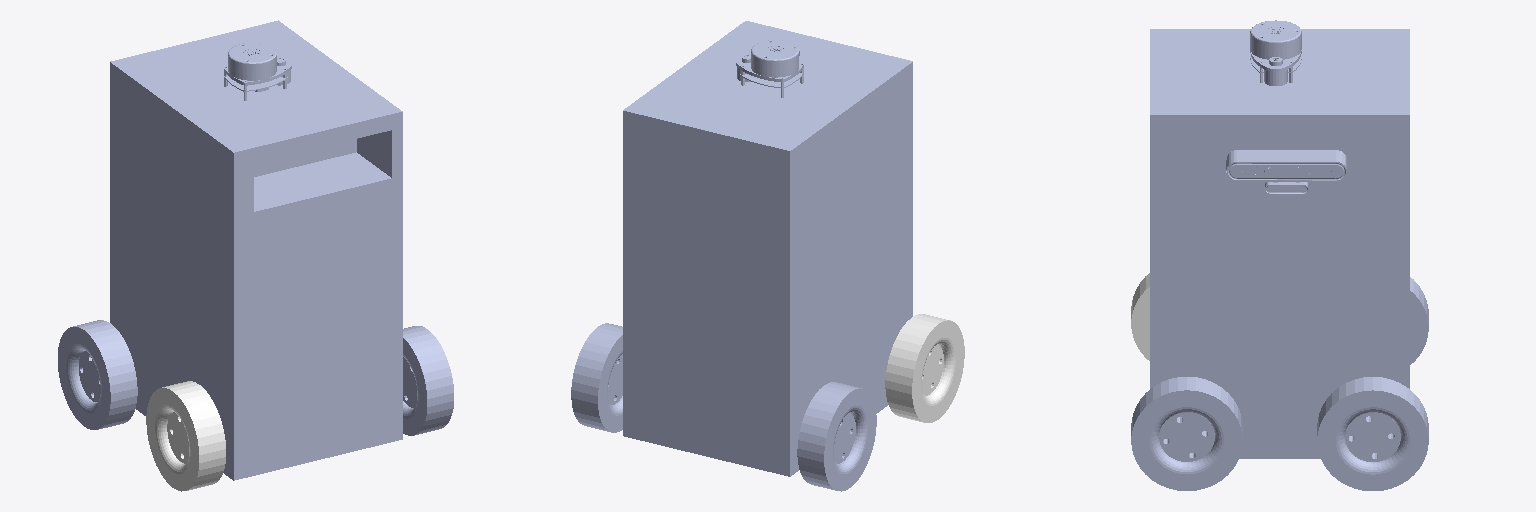
robot.urdf — my_urdf:
<?xml version="1.0" encoding="utf-8"?>
<!-- This URDF was automatically created by SolidWorks to URDF Exporter! Originally created by Stephen Brawner (brawner@gmail.com) 
     Commit Version: 1.6.0-4-g7f85cfe  Build Version: 1.6.7995.38578
     For more information, please see http://wiki.ros.org/sw_urdf_exporter -->
<robot
  name="my_urdf">
  <!-- Dummy link added to fix KDL inertia warning -->
  <link name="dummy_root">
    <inertial>
      <origin xyz="-0.000309087484210829 -0.231774623204699 0.00490440684986201" rpy="0 0 0" />
      <mass value="45.829187990473" />
      <inertia
        ixx="1.3247027895633"
        ixy="-0.00259104265884517"
        ixz="-0.00186845178508046"
        iyy="0.773725974976496"
        iyz="0.0411131993367175"
        izz="1.15594469557223" />
    </inertial>
  </link>

  <joint name="dummy_to_base" type="fixed">
    <parent link="dummy_root" />
    <child link="base_footprint" />
    <origin xyz="0 0 0" rpy="0 0 0" />
  </joint>
  <link
    name="base_footprint">
    <inertial>
      <origin
        xyz="-0.000309087484210829 -0.231774623204699 0.00490440684986201"
        rpy="0 0 0" />
      <mass
        value="45.829187990473" />
      <inertia
        ixx="1.3247027895633"
        ixy="-0.00259104265884517"
        ixz="-0.00186845178508046"
        iyy="0.773725974976496"
        iyz="0.0411131993367175"
        izz="1.15594469557223" />
    </inertial>
    <visual>
      <origin
        xyz="0 0 0"
        rpy="-1.57 0 0" />
      <geometry>
        <mesh
          filename="package://my_urdf/meshes/base_footprint.STL" />
      </geometry>
      <material
        name="">
        <color
          rgba="0.792156862745098 0.819607843137255 0.933333333333333 1" />
      </material>
    </visual>
    <collision>
      <origin
        xyz="0 0 0"
        rpy="-1.57 0 0" />
      <geometry>
        <mesh
          filename="package://my_urdf/meshes/base_footprint.STL" />
      </geometry>
    </collision>
  </link>
  <link
    name="front_right_link">
    <inertial>
      <origin
        xyz="-0.000233568800549525 0.00388215224949372 0.219535415875818"
        rpy="0 0 0" />
      <mass
        value="48.9383586991974" />
      <inertia
        ixx="1.56913843574981"
        ixy="-0.00154016843274957"
        ixz="0.00211023847469076"
        iyy="1.44343461593917"
        iyz="-0.0373053138883436"
        izz="0.925134371309634" />
    </inertial>
    <visual>
      <origin
        xyz="0 0 0"
        rpy="1.57 0 0" />
      <geometry>
        <mesh
          filename="package://my_urdf/meshes/back_right_link.STL" />
      </geometry>
      <material
        name="">
        <color
          rgba="1 1 1 1" />
      </material>
    </visual>
    <collision>
      <origin
        xyz="0 0 0"
        rpy="0 0 0" />
      <geometry>
        <mesh
          filename="package://my_urdf/meshes/back_right_link.STL" />
      </geometry>
    </collision>
  </link>
  <joint
    name="front_right_joint"
    type="revolute">
    <origin
      xyz="0 0 0"
      rpy="1.5707963267949 0 0" />
    <parent
      link="base_footprint" />
    <child
      link="front_right_link" />
    <axis
      xyz="-1 0 0" />
    <limit
      lower="0"
      upper="0"
      effort="0"
      velocity="0" />
  </joint>
  <link
    name="back_right_link">
    <inertial>
      <origin
        xyz="-0.188595 0.127041605346971 -0.0204638010416092"
        rpy="0 0 0" />
      <mass
        value="0.672106314046843" />
      <inertia
        ixx="0.0022358710882711"
        ixy="1.18669985448161E-20"
        ixz="4.77668952557858E-22"
        iyy="0.00121366878208572"
        iyz="1.72224751499544E-07"
        izz="0.0012137080517682" />
    </inertial>
    <visual>
      <origin
        xyz="0 0.035 0"
        rpy="-1.57 0 0" />
      <geometry>
        <mesh
          filename="package://my_urdf/meshes/back_right_link.STL" />
      </geometry>
      <material
        name="">
        <color
          rgba="0.792156862745098 0.819607843137255 0.933333333333333 1" />
      </material>
    </visual>
    <collision>
      <origin
        xyz="0 0 0"
        rpy="0 0 0" />
      <geometry>
        <mesh
          filename="package://my_urdf/meshes/back_right_link.STL" />
      </geometry>
    </collision>
  </link>
  <joint
    name="back_right_joint"
    type="revolute">
    <origin
      xyz="0 0 0"
      rpy="1.5707963267949 0 0" />
    <parent
      link="base_footprint" />
    <child
      link="back_right_link" />
    <axis
      xyz="1 0 0" />
    <limit
      lower="0"
      upper="0"
      effort="0"
      velocity="0" />
  </joint>
  <link
    name="back_left_link">
    <inertial>
      <origin
        xyz="0.188595 0.126968611638409 -0.0203013899175233"
        rpy="0 0 0" />
      <mass
        value="0.672106314046843" />
      <inertia
        ixx="0.0022358710882711"
        ixy="-1.47749794835115E-20"
        ixz="-5.08498084480825E-21"
        iyy="0.001213728039212"
        iyz="-1.68751197173603E-07"
        izz="0.00121364879464192" />
    </inertial>
    <visual>
      <origin
        xyz="0 0 0"
        rpy="1.57 0 0" />
      <geometry>
        <mesh
          filename="package://my_urdf/meshes/back_left_link.STL" />
      </geometry>
      <material
        name="">
        <color
          rgba="0.792156862745098 0.819607843137255 0.933333333333333 1" />
      </material>
    </visual>
    <collision>
      <origin
        xyz="0 0 0"
        rpy="0 0 0" />
      <geometry>
        <mesh
          filename="package://my_urdf/meshes/back_left_link.STL" />
      </geometry>
    </collision>
  </link>
  <joint
    name="back_left_joint"
    type="revolute">
    <origin
      xyz="0 0 0"
      rpy="1.5707963267949 0 0" />
    <parent
      link="base_footprint" />
    <child
      link="back_left_link" />
    <axis
      xyz="1 0 0" />
    <limit
      lower="0"
      upper="0"
      effort="0"
      velocity="0" />
  </joint>
  <link
    name="front_left_link">
    <inertial>
      <origin
        xyz="0.188595 -0.127032541922988 -0.0202995473440542"
        rpy="0 0 0" />
      <mass
        value="0.672106314046843" />
      <inertia
        ixx="0.0022358710882711"
        ixy="-7.01375136593397E-22"
        ixz="-1.64781567191005E-20"
        iyy="0.00121367321204965"
        iyz="-1.72672243645025E-07"
        izz="0.00121370362180427" />
    </inertial>
    <visual>
      <origin
        xyz="0 0 0"
        rpy="1.57 0 0" />
      <geometry>
        <mesh
          filename="package://my_urdf/meshes/front_left_link.STL" />
      </geometry>
      <material
        name="">
        <color
          rgba="0.792156862745098 0.819607843137255 0.933333333333333 1" />
      </material>
    </visual>
    <collision>
      <origin
        xyz="0 0 0"
        rpy="0 0 0" />
      <geometry>
        <mesh
          filename="package://my_urdf/meshes/front_left_link.STL" />
      </geometry>
    </collision>
  </link>
  <joint
    name="front_left_joint"
    type="revolute">
    <origin
      xyz="0 0 0"
      rpy="1.5707963267949 0 0" />
    <parent
      link="base_footprint" />
    <child
      link="front_left_link" />
    <axis
      xyz="1 0 0" />
    <limit
      lower="0"
      upper="0"
      effort="0"
      velocity="0" />
  </joint>
  <link
    name="lidar_link">
    <inertial>
      <origin
        xyz="0.00548449682867642 -0.00227401415844783 0.513423127732833"
        rpy="0 0 0" />
      <mass
        value="0.170611427740059" />
      <inertia
        ixx="0.000123166325080503"
        ixy="1.02818502430435E-07"
        ixz="3.96362803317277E-07"
        iyy="7.88356333895355E-05"
        iyz="2.02875674243666E-05"
        izz="0.00014078871798285" />
    </inertial>
    <visual>
      <origin
        xyz="0 0 0"
        rpy="0 0 -1.57" />
      <geometry>
        <mesh
          filename="package://my_urdf/meshes/base_laser.STL" />
      </geometry>
      <material
        name="">
        <color
          rgba="0.792156862745098 0.819607843137255 0.933333333333333 1" />
      </material>
    </visual>
    <collision>
      <origin
        xyz="0 0 0"
        rpy="0 0 0" />
      <geometry>
        <mesh
          filename="package://my_urdf/meshes/base_laser.STL" />
      </geometry>
    </collision>
  </link>
  <joint
    name="baser_laser_joint"
    type="fixed">
    <origin
      xyz="0 0 0"
      rpy="0 0 0" />
    <parent
      link="base_footprint" />
    <child
      link="lidar_link" />
    <axis
      xyz="0 0 0" />
  </joint>
  <link
    name="camera_link">
    <inertial>
      <origin
        xyz="0.00816075461061211 -0.156095902491559 0.405890121378547"
        rpy="0 0 0" />
      <mass
        value="0.220449863399617" />
      <inertia
        ixx="4.67299149630673E-05"
        ixy="-4.59364629457927E-08"
        ixz="5.50364242676411E-09"
        iyy="0.000406106730886343"
        iyz="-1.59318277923789E-07"
        izz="0.000425232439456108" />
    </inertial>
    <visual>
      <origin
        xyz="0 0 0"
        rpy="3.14 3.14 -1.57" />
      <geometry>
        <mesh
          filename="package://my_urdf/meshes/base_camera.STL" />
      </geometry>
      <material
        name="">
        <color
          rgba="0.792156862745098 0.819607843137255 0.933333333333333 1" />
      </material>
    </visual>
    <collision>
      <origin
        xyz="0 0 0"
        rpy="0 0 0" />
      <geometry>
        <mesh
          filename="package://my_urdf/meshes/base_camera.STL" />
      </geometry>
    </collision>
  </link>
  <joint
    name="camera_link_joint"
    type="fixed">
    <origin
      xyz="0 0 0"
      rpy="3.14 3.14 3.14" />
    <parent
      link="base_footprint" />
    <child
      link="camera_link" />
    <axis
      xyz="0 0 0" />
  </joint>
</robot>

--- What the picture shows (computed from the rendered views, not written in the file) ---
3 views of the same robot in one strip: view 1: azimuth 30°, elevation 25°; view 2: azimuth 150°, elevation 25°; view 3: azimuth 270°, elevation 25° (orthographic).
Model my_urdf with 8 links and 7 joints (4 revolute, 3 fixed), rooted at dummy_root, posed every joint at zero.
Visible links, largest first — view 1: base_footprint, front_right_link, back_right_link, back_left_link, lidar_link; view 2: base_footprint, front_right_link, back_right_link, front_left_link, lidar_link; view 3: base_footprint, back_left_link, front_left_link, camera_link, lidar_link, front_right_link, back_right_link.
Link boxes in pixels (x1,y1,x2,y2): base_footprint: (110, 20, 402, 480); front_right_link: (146, 381, 225, 491); back_right_link: (58, 320, 137, 429); back_left_link: (403, 326, 453, 435); lidar_link: (224, 43, 291, 100); base_footprint: (623, 21, 912, 476); front_right_link: (885, 314, 964, 422); back_right_link: (797, 382, 876, 491); front_left_link: (571, 323, 622, 432); lidar_link: (736, 40, 803, 97); base_footprint: (1150, 29, 1409, 458); back_left_link: (1131, 377, 1242, 490); front_left_link: (1317, 377, 1428, 490); camera_link: (1226, 150, 1346, 193); lidar_link: (1250, 20, 1301, 85); front_right_link: (1131, 273, 1149, 360); back_right_link: (1410, 277, 1428, 364).
Bounding box of the posed robot: 0.4216 × 0.4061 × 0.5974 m (x, y, z).
Meshes: 6 distinct files referenced, 7 mesh visuals loaded (6 binary STL).
